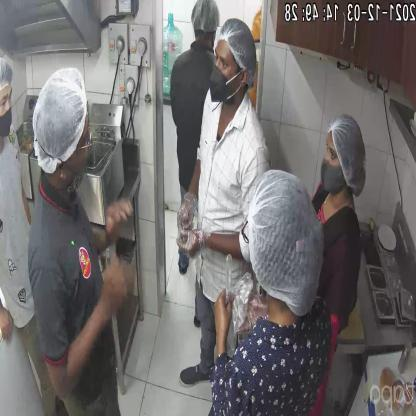no_apron: (26, 191, 120, 409), (186, 92, 261, 307)
